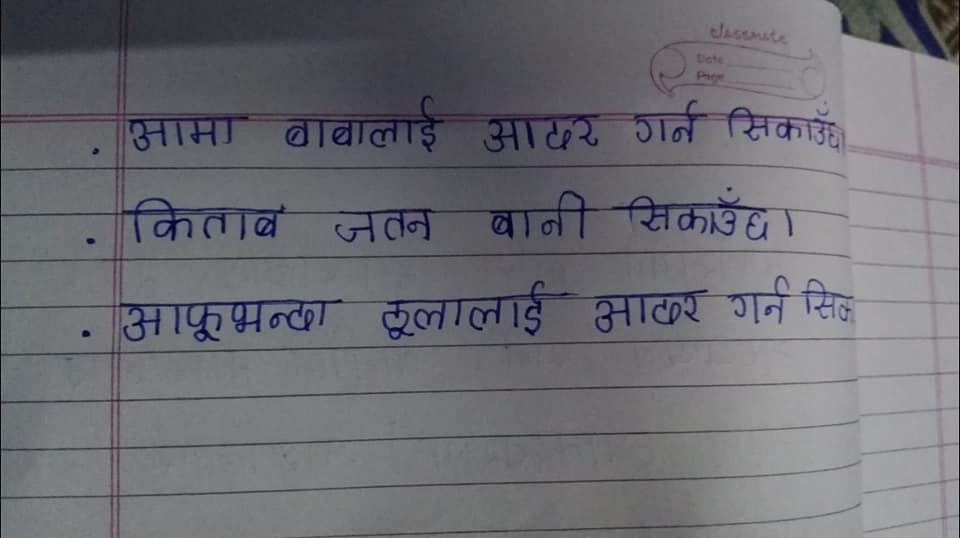text: (375, 277, 574, 345), (115, 293, 347, 345), (280, 93, 446, 162), (617, 186, 778, 244), (124, 196, 299, 249), (725, 99, 845, 155), (479, 106, 603, 160), (591, 285, 713, 338), (487, 188, 599, 245), (328, 204, 438, 253), (123, 110, 248, 153), (628, 98, 712, 151), (724, 271, 798, 328), (797, 272, 854, 329)
